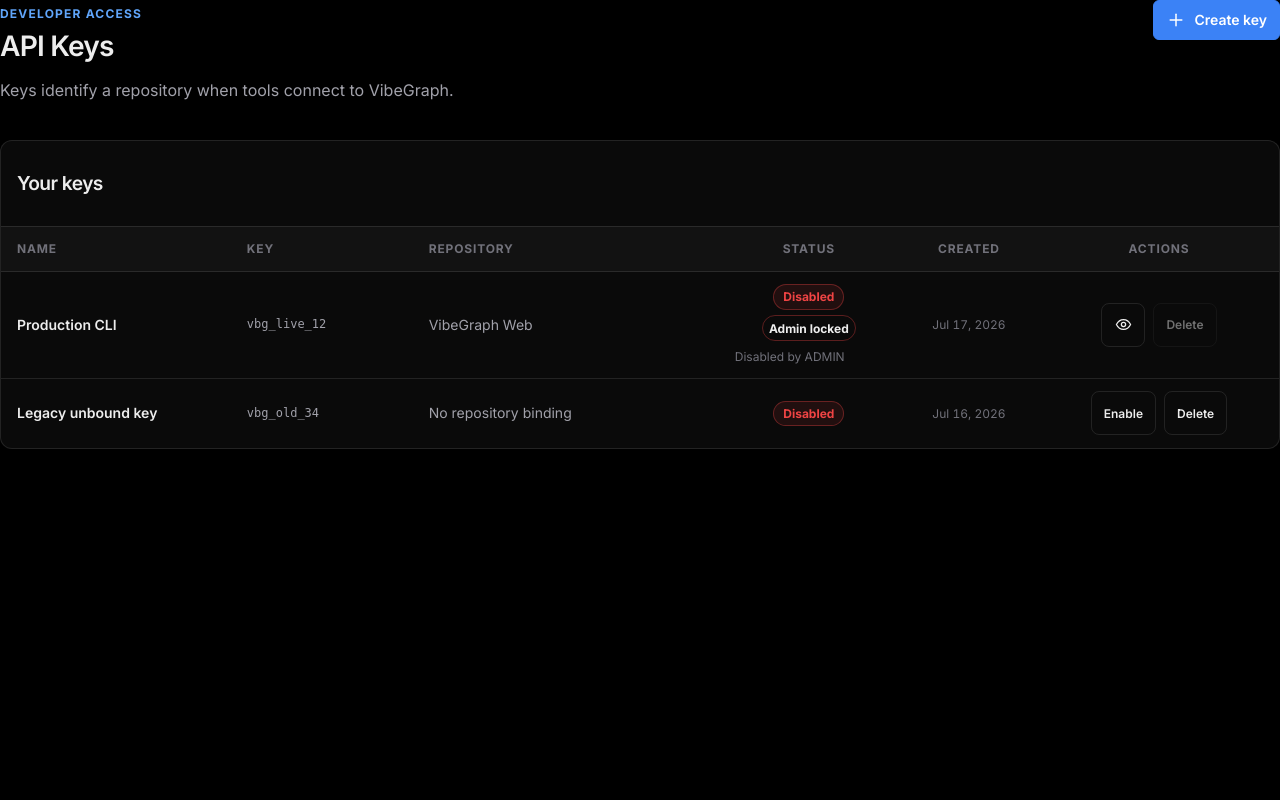
it: ApiKeysView › prevents deletion and replacement of an admin-locked key
Click the button with test id "create-api-key": x=1217, y=20 x1=1154 y1=0 x2=1279 y2=40
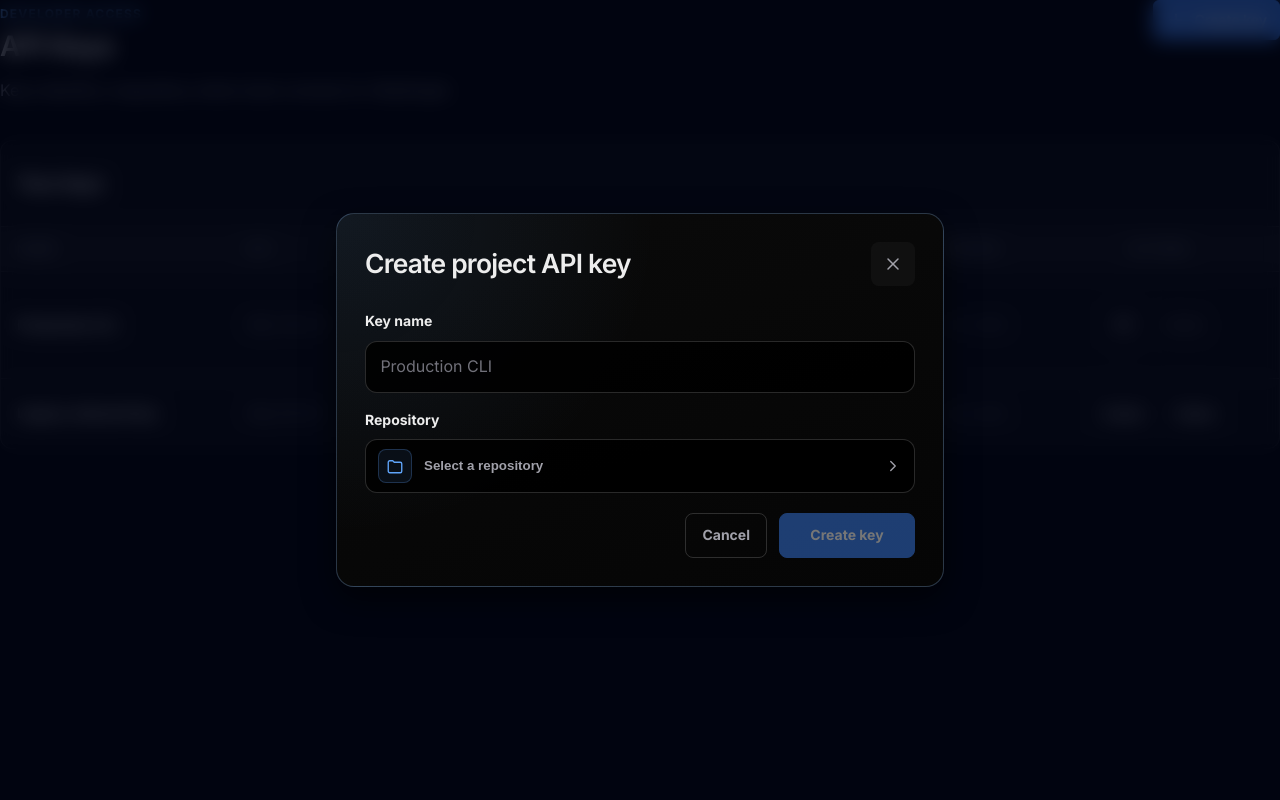
In the field with id "key-name": x=640, y=367 x1=365 y1=341 x2=915 y2=393, type "Replacement"
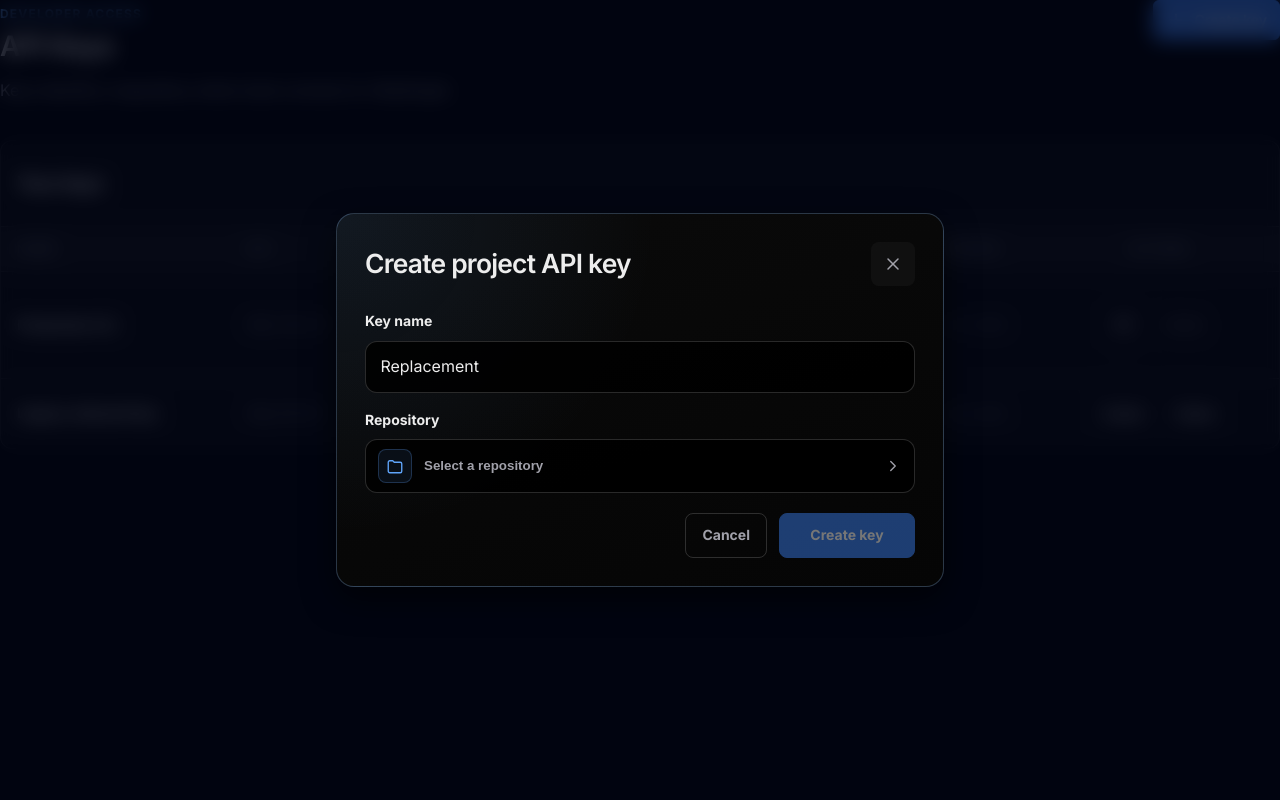
Click the dropdown with id "key-project": x=395, y=466 x1=365 y1=439 x2=915 y2=493
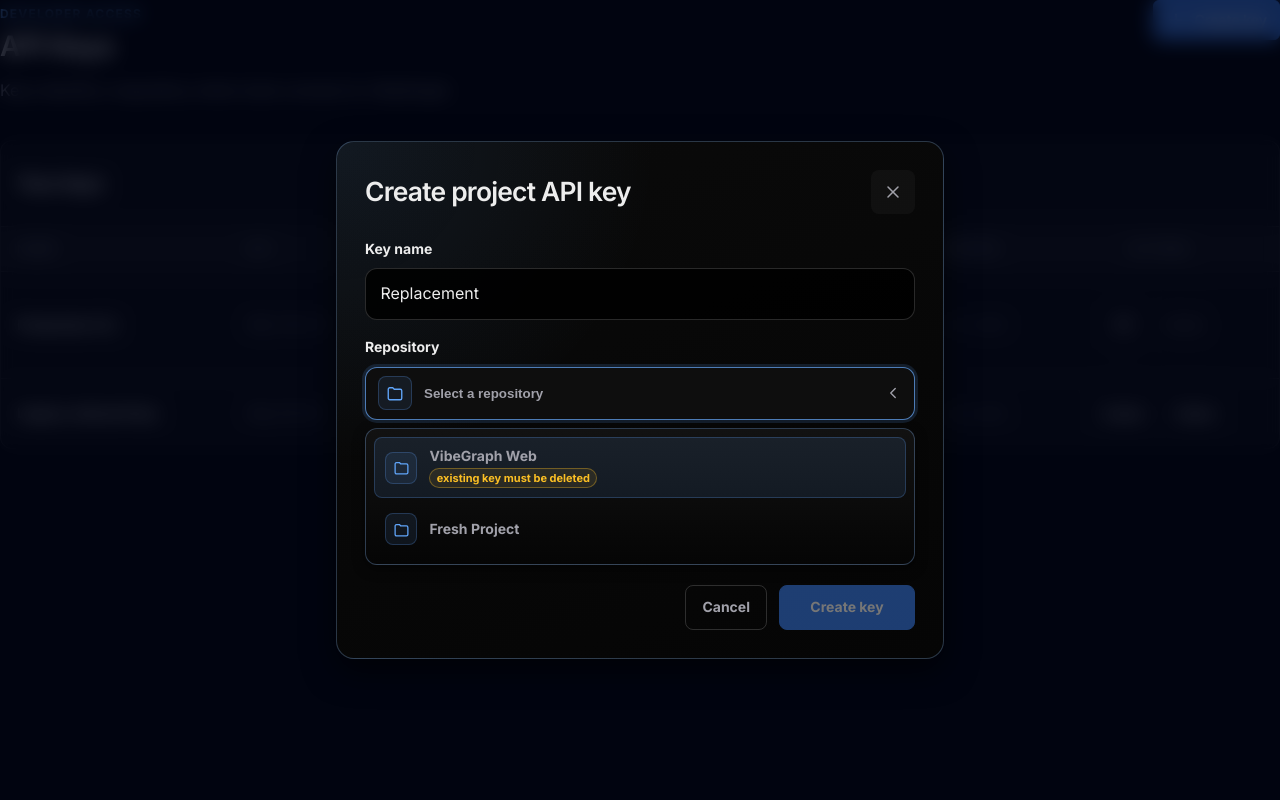
Click the option with test id "repository-option-project-1": x=401, y=468 x1=374 y1=437 x2=906 y2=498
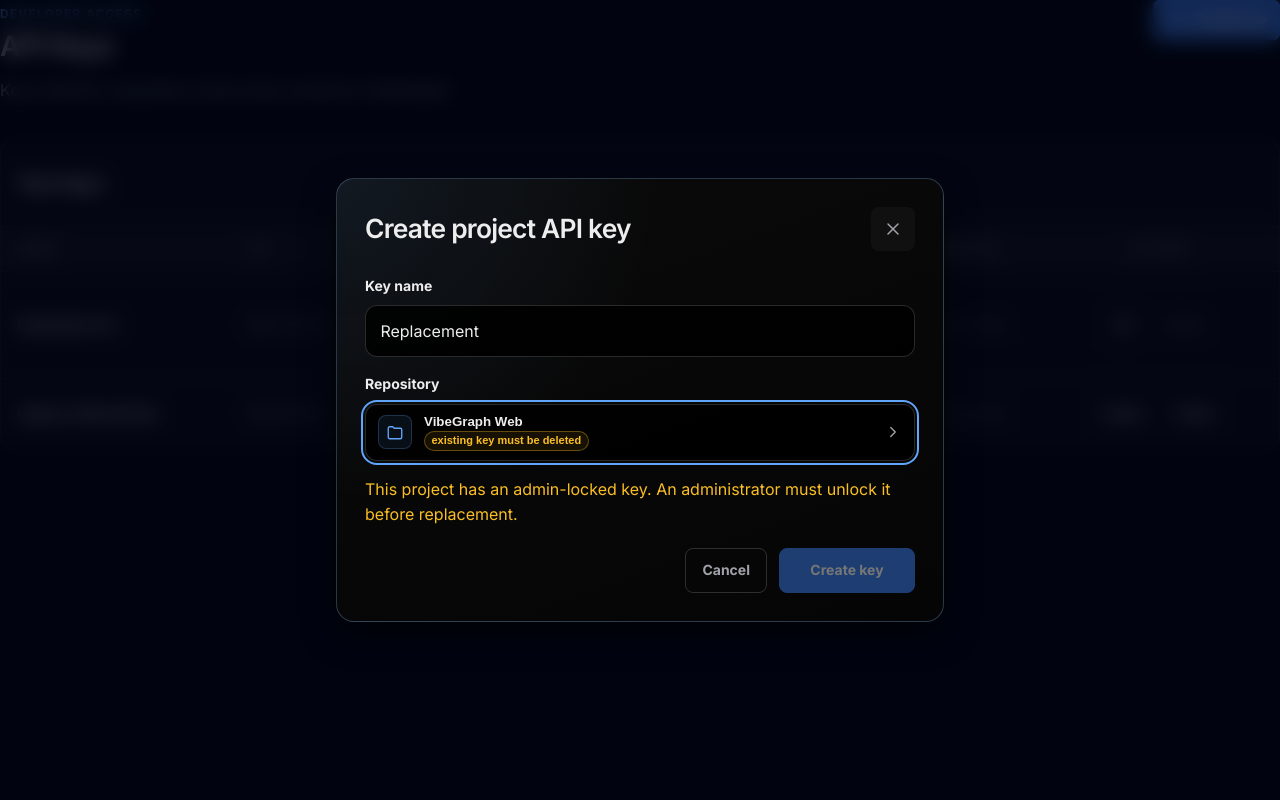
Expected: the text with test id "duplicate-project-reason" shows "admin-locked key", x1=365 y1=479 x2=891 y2=524
